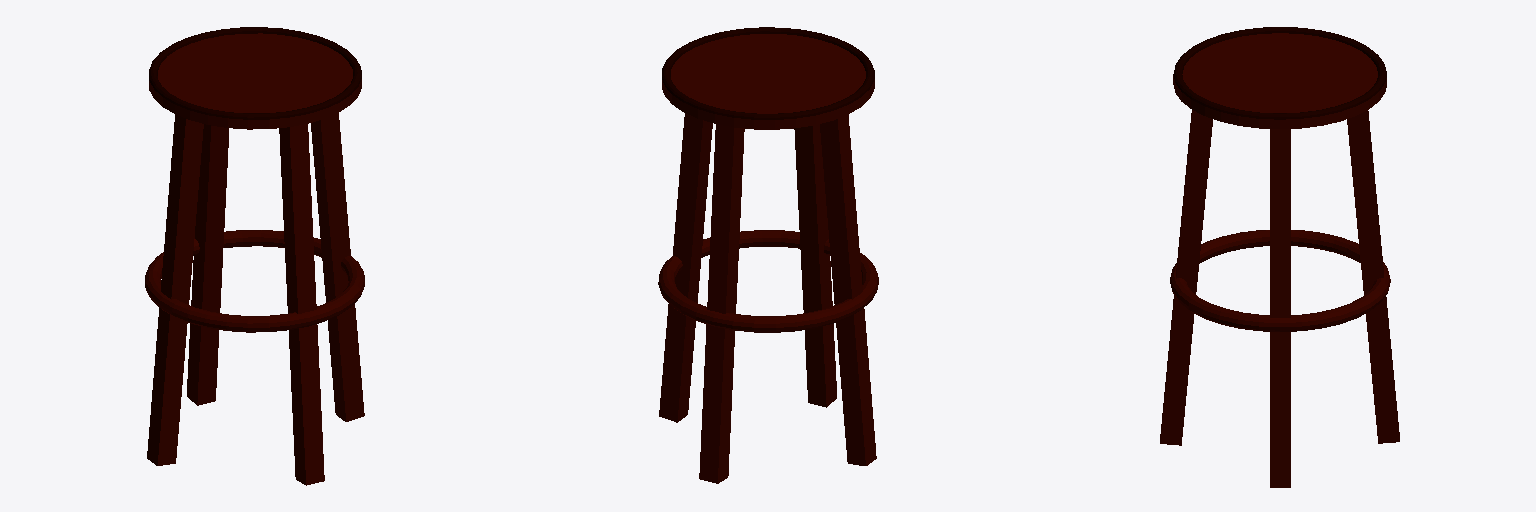
File: kruk.obj
The picture shows the model from 3 angles: view 1: azimuth 30°, elevation 25°; view 2: azimuth 150°, elevation 25°; view 3: azimuth 270°, elevation 25°; orthographic projection.
Parts seen in each view (by area): view 1: Cylinder, Cube.003_Cube.004, Cube_Cube.001, Cube.001_Cube.002, Cube.002_Cube.003, Torus.006, Torus.003; view 2: Cylinder, Cube.002_Cube.003, Cube_Cube.001, Cube.001_Cube.002, Cube.003_Cube.004, Torus.006, Torus.003; view 3: Cylinder, Cube.001_Cube.002, Cube.003_Cube.004, Cube.002_Cube.003, Torus.006, Torus.003.
Part boxes in pixels (x1,y1,x2,y2): Cylinder: (149, 33, 361, 129); Cube.003_Cube.004: (279, 124, 324, 485); Cube_Cube.001: (147, 114, 203, 465); Cube.001_Cube.002: (311, 113, 364, 421); Cube.002_Cube.003: (187, 124, 228, 405); Torus.006: (145, 230, 364, 332); Torus.003: (149, 27, 361, 119); Cylinder: (662, 34, 874, 129); Cube.002_Cube.003: (699, 124, 744, 483); Cube_Cube.001: (820, 115, 876, 465); Cube.001_Cube.002: (659, 113, 712, 422); Cube.003_Cube.004: (794, 124, 836, 407); Torus.006: (658, 230, 878, 332); Torus.003: (662, 27, 874, 119); Cylinder: (1173, 33, 1386, 128); Cube.001_Cube.002: (1270, 129, 1290, 487); Cube.003_Cube.004: (1160, 110, 1212, 445); Cube.002_Cube.003: (1347, 110, 1399, 443); Torus.006: (1170, 230, 1390, 331); Torus.003: (1173, 27, 1386, 119).
Size of the model in its own units: 11.18 by 19.11 by 11.18.